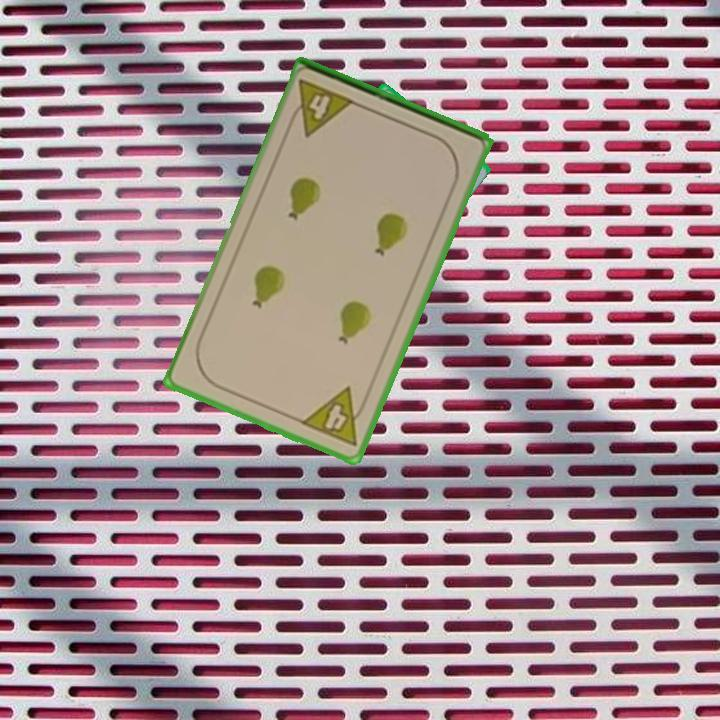4p: (297, 383, 373, 450), (284, 76, 358, 140)
